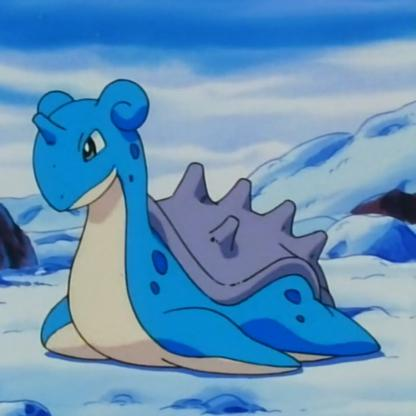Lapras: (15, 68, 382, 392)
